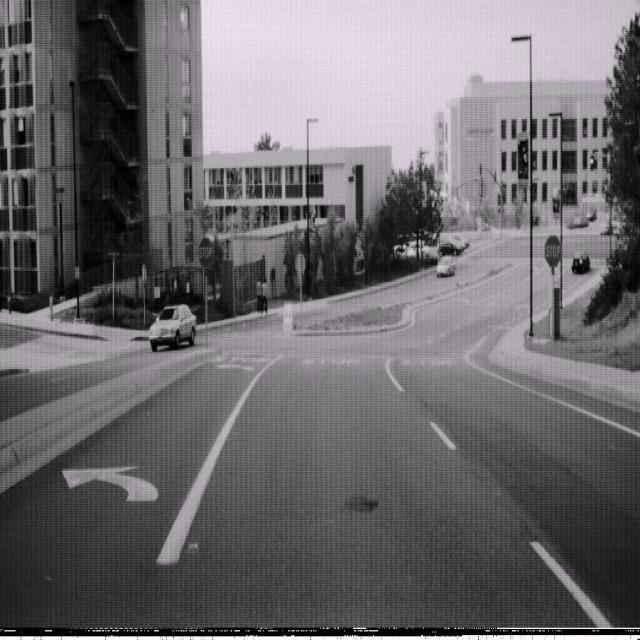stop: (544, 234, 562, 270), (198, 234, 215, 270)
